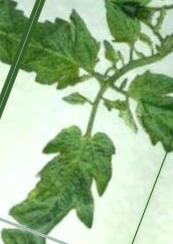Tomato leaf mosaic virus: (5, 108, 131, 244), (16, 0, 111, 101), (108, 59, 173, 157)
